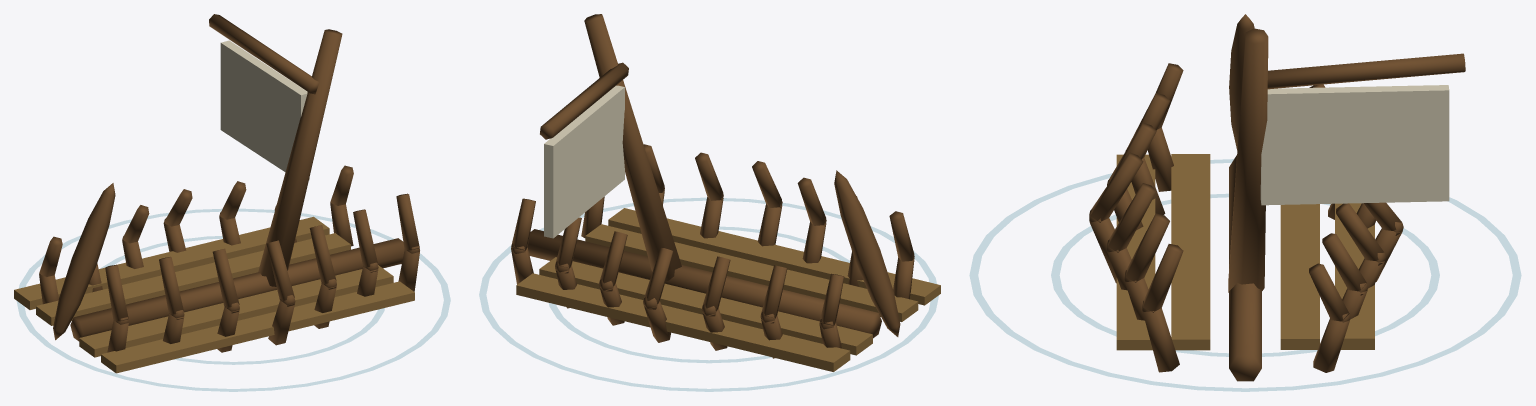
File: resource_shipwreck.fbx
3 views of the same model, side by side, from view 1: azimuth 30°, elevation 25°; view 2: azimuth 150°, elevation 25°; view 3: azimuth 270°, elevation 25° (orthographic). The views are drawn at different scales.
Parts seen in each view (by area): view 1: resource_shipwreck_wood#6a4a2a_01, resource_shipwreck_wood#8a6a3a_02, resource_shipwreck_sail_03, resource_shipwreck_foam_ring.004_00; view 2: resource_shipwreck_wood#6a4a2a_01, resource_shipwreck_wood#8a6a3a_02, resource_shipwreck_sail_03, resource_shipwreck_foam_ring.004_00; view 3: resource_shipwreck_wood#6a4a2a_01, resource_shipwreck_sail_03, resource_shipwreck_wood#8a6a3a_02, resource_shipwreck_foam_ring.004_00.
Boxes of the visible parts, x1,y1,x2,y2 form: resource_shipwreck_wood#6a4a2a_01: (39,14,419,352); resource_shipwreck_wood#8a6a3a_02: (14,216,414,373); resource_shipwreck_sail_03: (220,40,309,180); resource_shipwreck_foam_ring.004_00: (16,208,450,391); resource_shipwreck_wood#6a4a2a_01: (511,14,914,358); resource_shipwreck_wood#8a6a3a_02: (516,208,940,371); resource_shipwreck_sail_03: (544,85,624,238); resource_shipwreck_foam_ring.004_00: (479,197,938,391); resource_shipwreck_wood#6a4a2a_01: (1089,14,1465,381); resource_shipwreck_sail_03: (1260,85,1449,205); resource_shipwreck_wood#8a6a3a_02: (1116,154,1374,350); resource_shipwreck_foam_ring.004_00: (969,159,1521,391).
Size of the model in its own units: 101 by 63.63 by 101.
